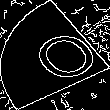O_SE: (12, 22, 98, 88)
